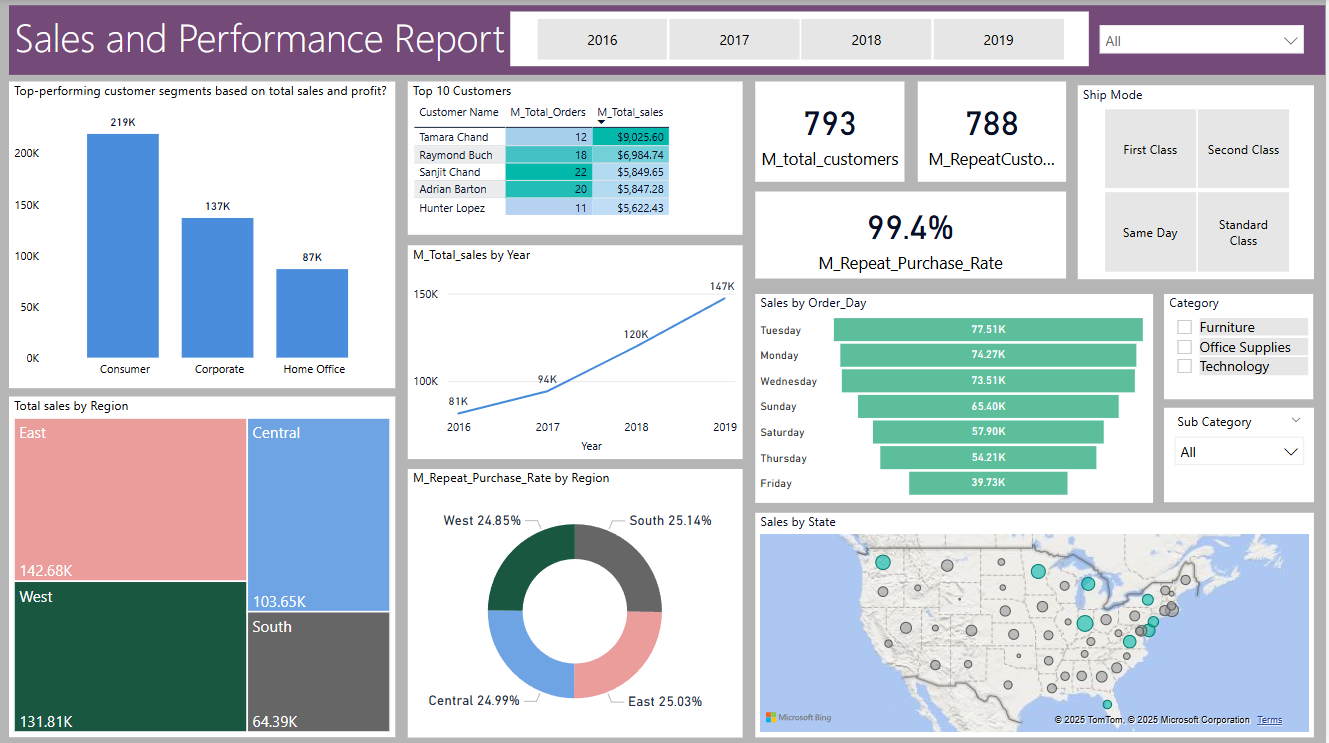

What the dashboard file says about the page in this screenshot:
{"tool":"powerbi","page":{"name":"Page 1","canvas":[1280,720],"ordinal":0},"visuals":[{"type":"clusteredColumnChart","title":"Top-performing customer segments based on total sales and profit?","fields":{"Category":["Segment.Segment"],"Y":["Table.M_Total_sales"]},"box":[10,80,372.9,295.7],"z":0},{"type":"treemap","title":"Total sales by Region","fields":{"Group":["Customer Table.Region"],"Values":["Table.M_Total_sales"]},"box":[10,384,373,329],"z":1000},{"type":"textbox","box":[10,5.5,1270,67.3],"z":2000},{"type":"slicer","fields":{"Values":["Order Master.Order_Month_Name"]},"box":[1051.4,5.7,217.1,60],"z":3000},{"type":"slicer","fields":{"Values":["Order Master.Order_date_Year"]},"box":[494,12,558,53],"z":4000},{"type":"card","title":"Total Customers","fields":{"Values":["Table.M_total_customers"]},"box":[730,80,144.3,97.1],"z":5000},{"type":"card","fields":{"Values":["Table.M_RepeatCustomers_Alt"]},"box":[887.1,80,142.9,97.1],"z":6000},{"type":"card","fields":{"Values":["Table.M_Repeat_Purchase_Rate"]},"box":[730,185.7,300,84.3],"z":7000},{"type":"donutChart","fields":{"Category":["Customer Table.Region"],"Y":["Table.M_Repeat_Purchase_Rate"]},"box":[394,454,323,259],"z":8000},{"type":"slicer","title":"Category","fields":{"Values":["Category.Category"]},"box":[1124.3,284.3,144.3,101.4],"z":10000},{"type":"map","title":"Sales by State","fields":{"Category":["Customer Table.State"],"Size":["Table.M_Total_sales"]},"box":[730,496,539,217],"z":11000},{"type":"funnel","title":"Sales by Order_Day","fields":{"Category":["Order Master.Order_Day_Name"],"Y":["Table.M_Total_sales"]},"box":[730,284.3,384.3,201.4],"z":12000},{"type":"tableEx","title":"Top 10 Customers","fields":{"Values":["Customer Table.Customer Name","Table.M_Total_Orders","Table.M_Total_sales"]},"box":[394,80,323,148],"z":13000},{"type":"slicer","title":"Ship Mode","fields":{"Values":["Ship Mode.Ship Mode"]},"box":[1041,83,228,187],"z":14000},{"type":"slicer","fields":{"Values":["Product.Sub-Category.Sub-Category"]},"box":[1124,395,145,91],"z":15000},{"type":"lineChart","fields":{"Category":["Order Master.Order Date.Variation.Date Hierarchy.Year"],"Y":["Table.M_Total_sales"]},"box":[394,238,323,206],"z":15001}]}

Visuals, with their boxes in screenshot pixels (x1, y1, x2, y2), scaled from the page's 1280x720 canvas onto the 1329x743 screenshot:
"Top-performing customer segments based on total sales and profit?" clusteredColumnChart: (10,83,398,388)
"Total sales by Region" treemap: (10,396,398,736)
textbox: (10,6,1328,75)
slicer - Order Master.Order_Month_Name: (1092,6,1317,68)
slicer - Order Master.Order_date_Year: (513,12,1092,67)
"Total Customers" card: (758,83,908,183)
card - Table.M_RepeatCustomers_Alt: (921,83,1069,183)
card - Table.M_Repeat_Purchase_Rate: (758,192,1069,279)
donutChart - Customer Table.Region x Table.M_Repeat_Purchase_Rate: (409,469,744,736)
"Category" slicer: (1167,293,1317,398)
"Sales by State" map: (758,512,1318,736)
"Sales by Order_Day" funnel: (758,293,1157,501)
"Top 10 Customers" tableEx: (409,83,744,235)
"Ship Mode" slicer: (1081,86,1318,279)
slicer - Product.Sub-Category.Sub-Category: (1167,408,1318,502)
lineChart - Order Master.Order Date.Variation.Date Hierarchy.Year x Table.M_Total_sales: (409,246,744,458)
